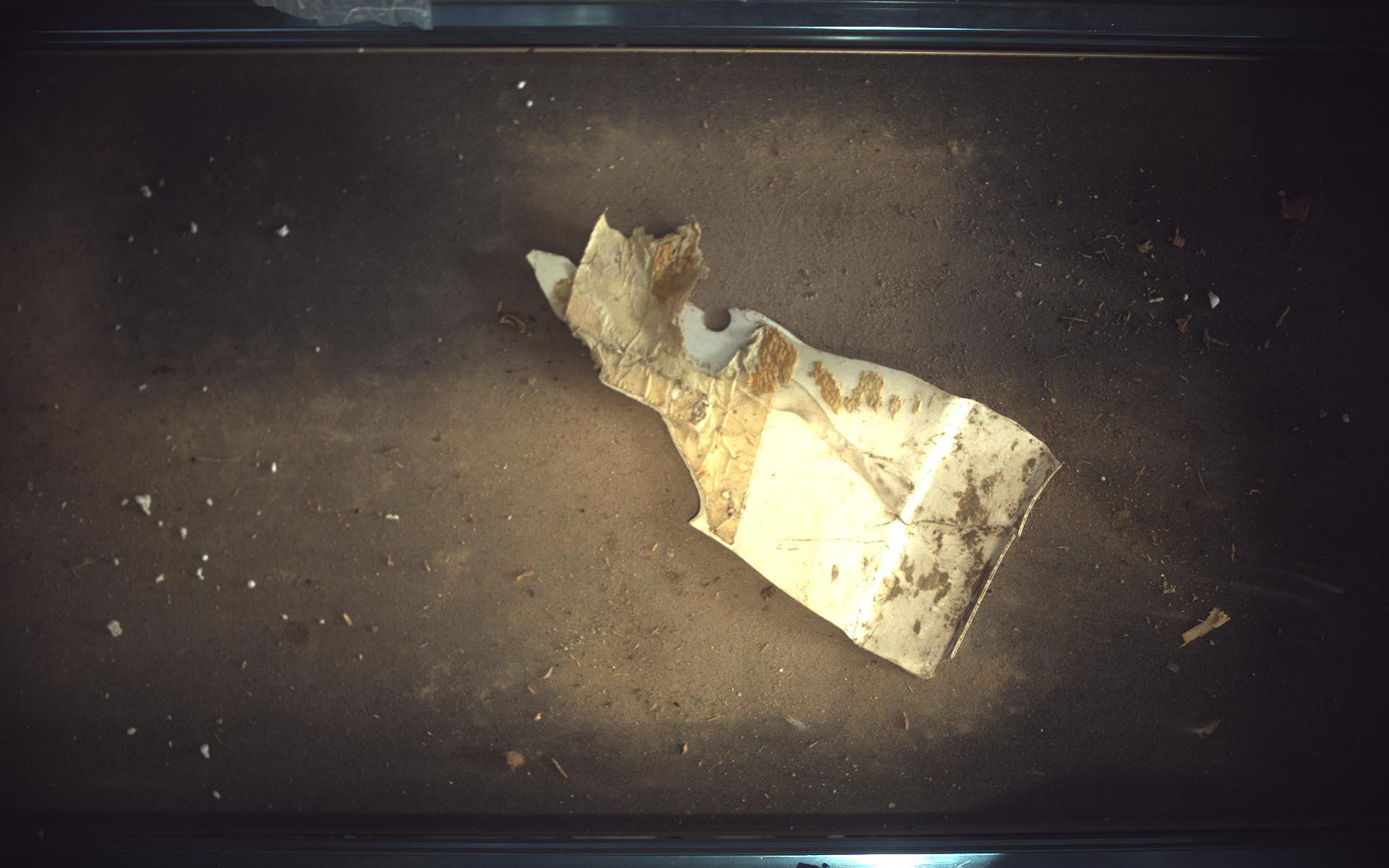plastic: (527, 215, 1063, 678)
